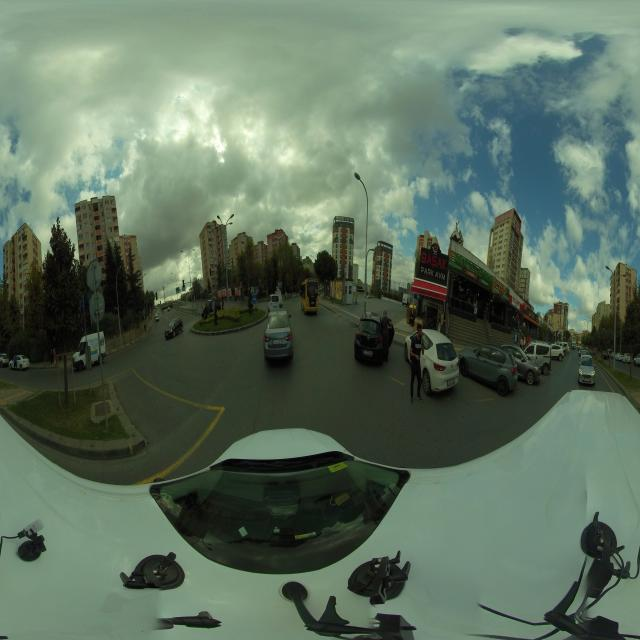SignStore: (420, 248, 448, 283), (510, 295, 522, 310), (528, 308, 536, 321)
